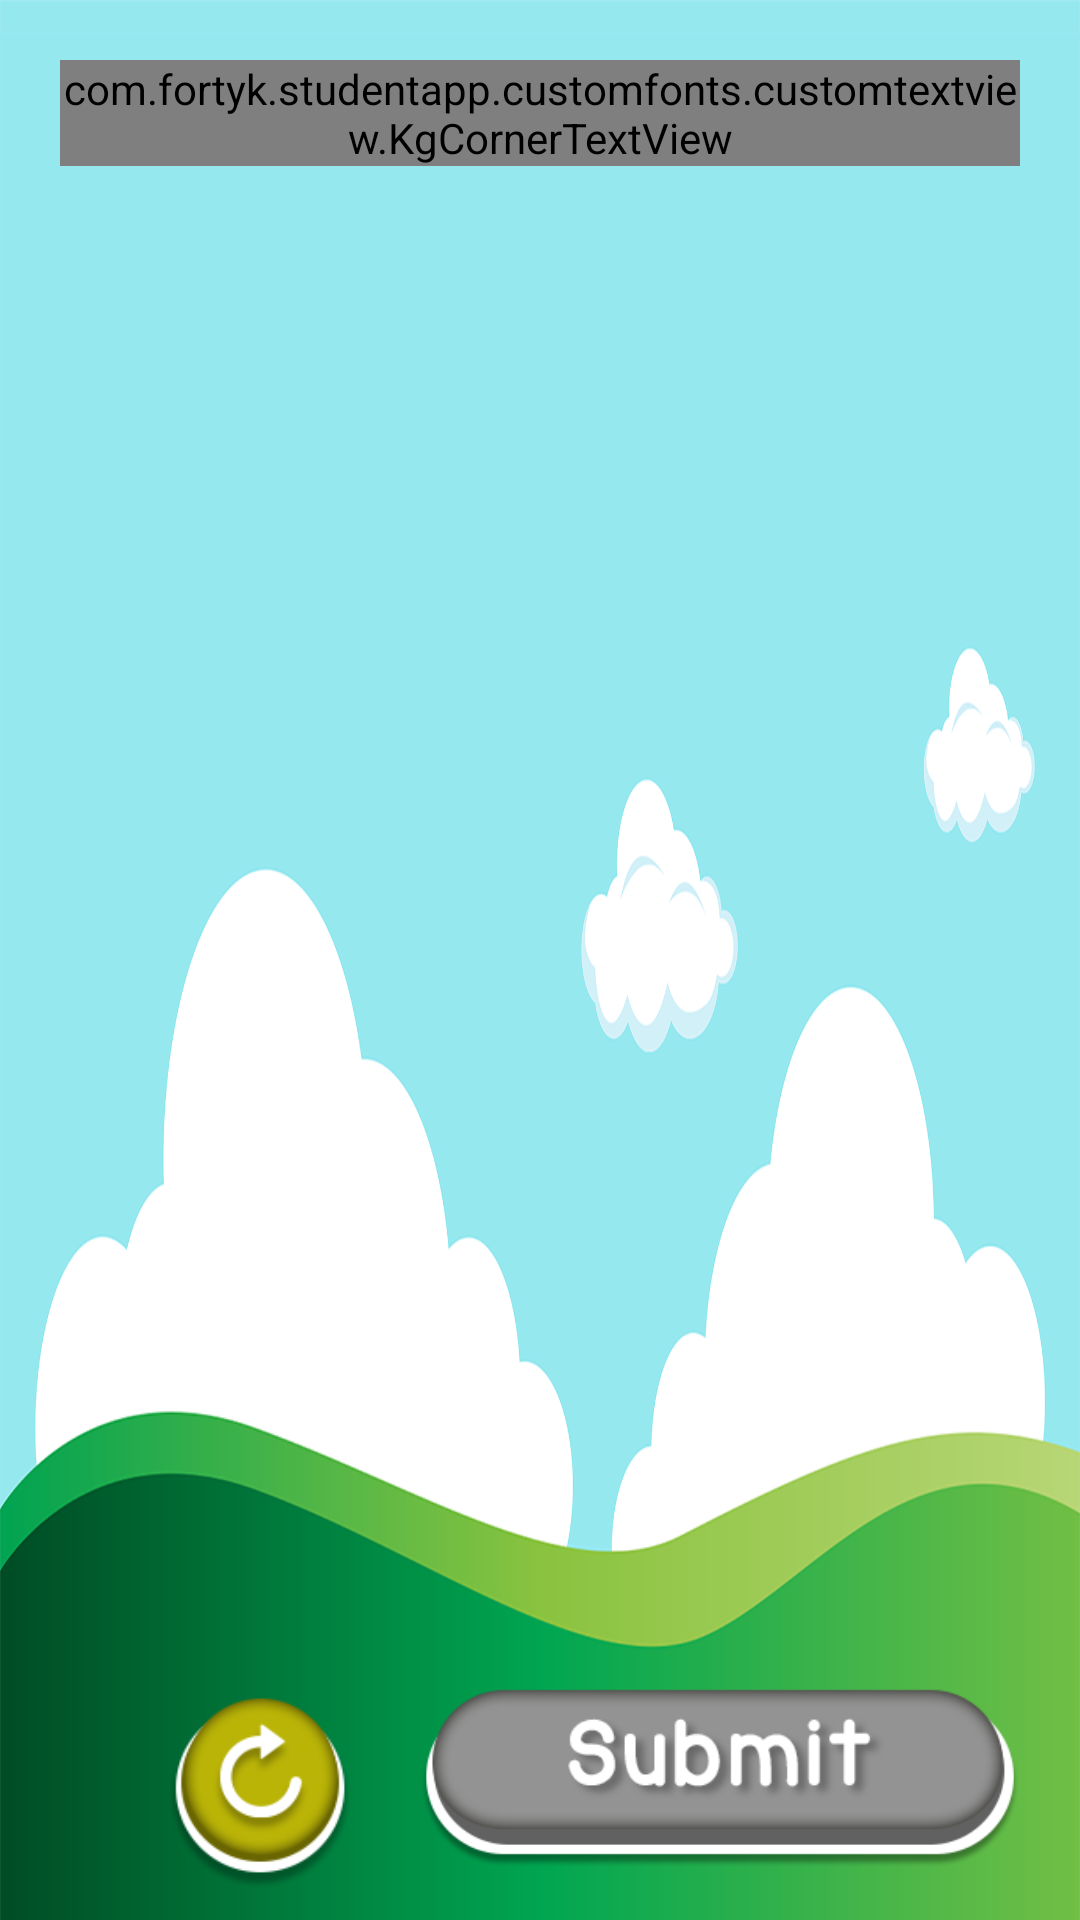

Point at icon controls on the screen. Image size 1080 x 1920, points as [x,y].
reset: [261,1792]
